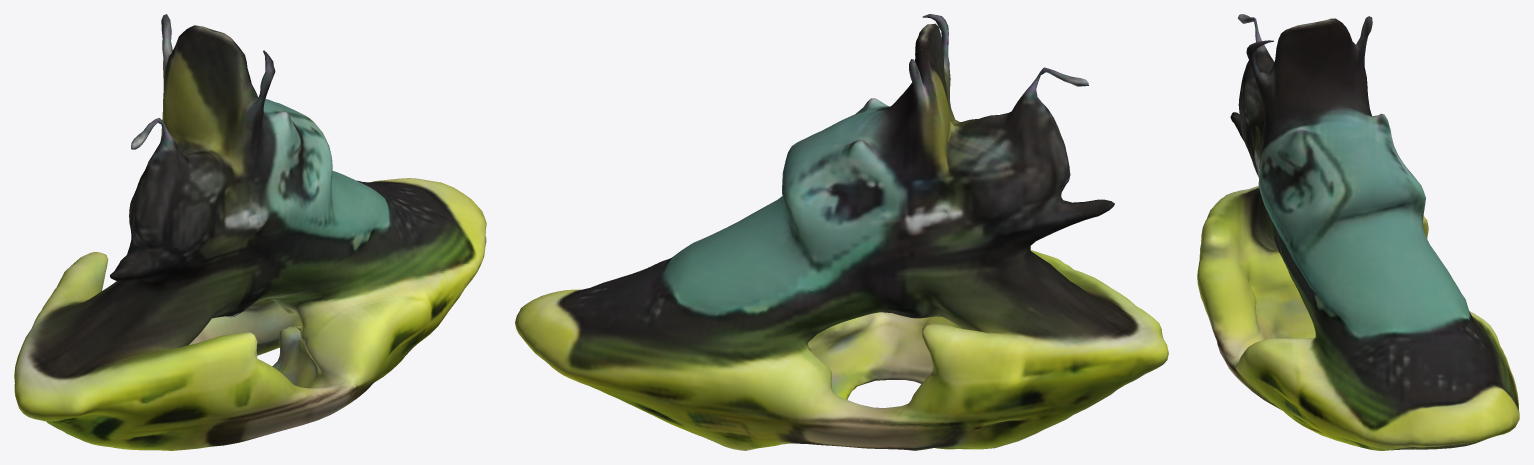
The model's file is zapatox2.glb.
3 views of the same model, side by side, from view 1: azimuth 30°, elevation 25°; view 2: azimuth 150°, elevation 25°; view 3: azimuth 270°, elevation 25° (orthographic). The views are drawn at different scales.
Visible parts, largest first — view 1: mesh; view 2: mesh; view 3: mesh.
Part boxes in pixels (left/top/right/bottom): mesh: left=14, top=14, right=486, bottom=450; mesh: left=515, top=14, right=1168, bottom=450; mesh: left=1197, top=14, right=1519, bottom=450.
Bounding box in the file's own units: 1.78 × 1.25 × 1.01.
Materials: 1 (1 with a texture image).
